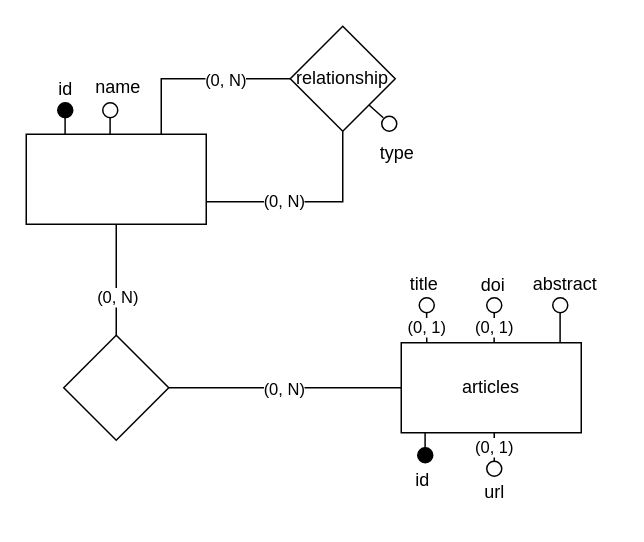
This 644x542 diagram has some shape labels left out. The shapes that lost their labels are listed below. From the top down, each one's box as (x1, y1, x2, y2) in pixels, then its label:
(25, 133, 206, 224): entities
(62, 334, 169, 440): mapping
